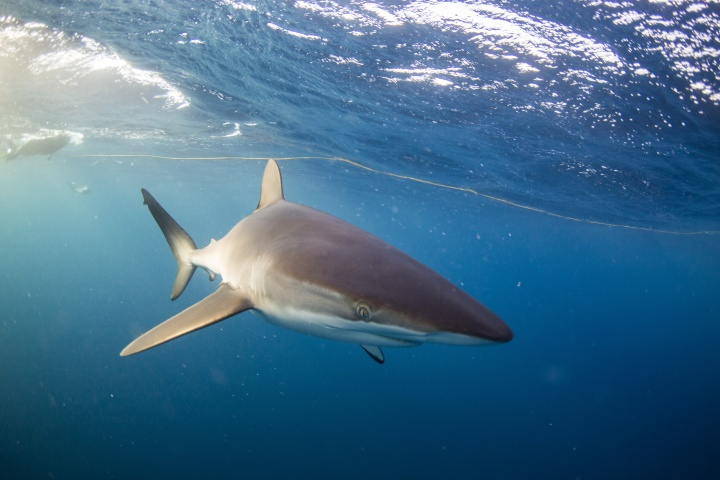Sedoso: (82, 143, 527, 400)
